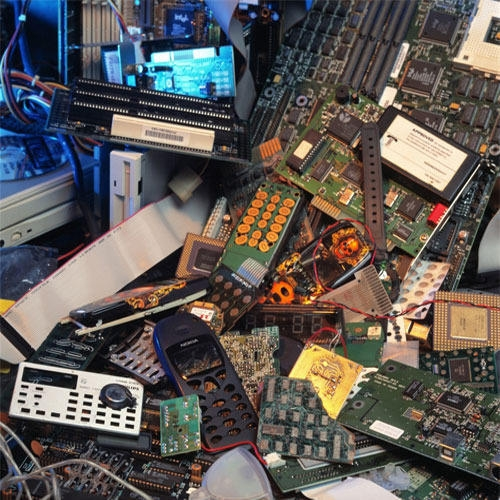metal: (267, 80, 489, 260), (329, 356, 500, 492), (36, 68, 259, 171), (5, 355, 161, 456), (150, 399, 211, 464)
plastic: (143, 310, 267, 456), (196, 174, 310, 306), (240, 370, 378, 478)
